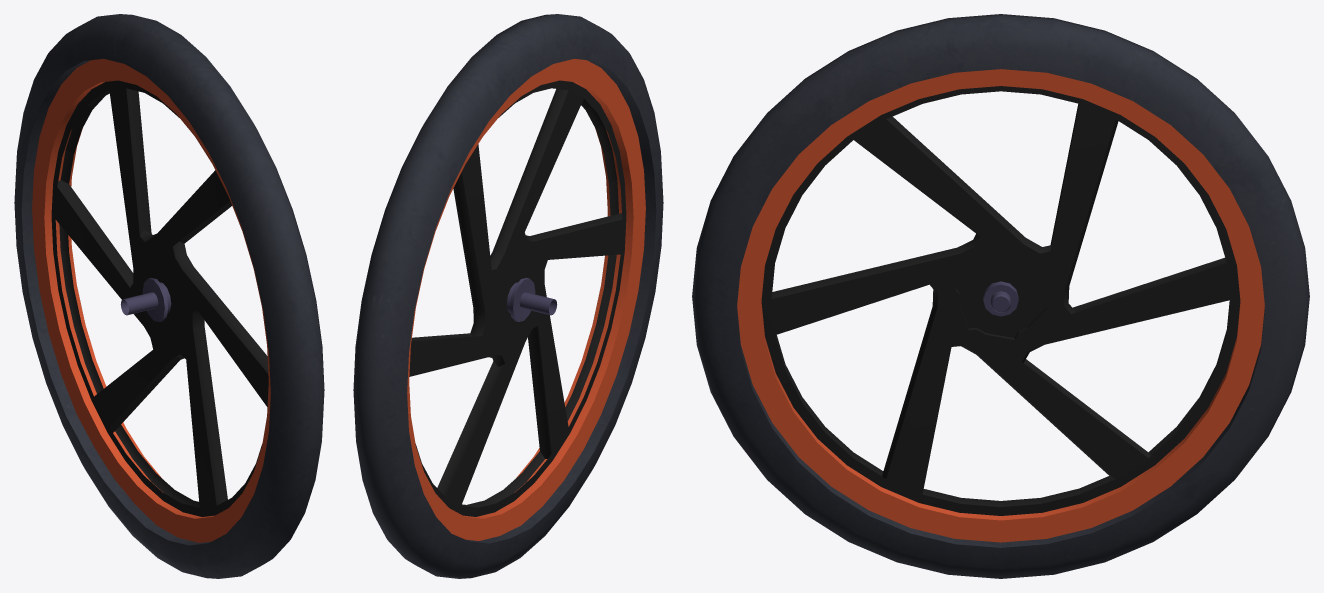
File: whe_#2_delantera_izquierda.fbx
The picture shows the model from 3 angles, left to right: view 1: azimuth 30°, elevation 25°; view 2: azimuth 150°, elevation 25°; view 3: azimuth 270°, elevation 25°; orthographic projection. The views are drawn at different scales.
Visible parts, largest first — view 1: whe_#2_delantera_izquierda; view 2: whe_#2_delantera_izquierda; view 3: whe_#2_delantera_izquierda.
Boxes of the visible parts, box(x1,y1,x2,y2) form: whe_#2_delantera_izquierda: box(14, 14, 324, 578); whe_#2_delantera_izquierda: box(353, 14, 663, 578); whe_#2_delantera_izquierda: box(692, 14, 1309, 578).
Size of the model in its own units: 10.98 by 81.32 by 81.32.
